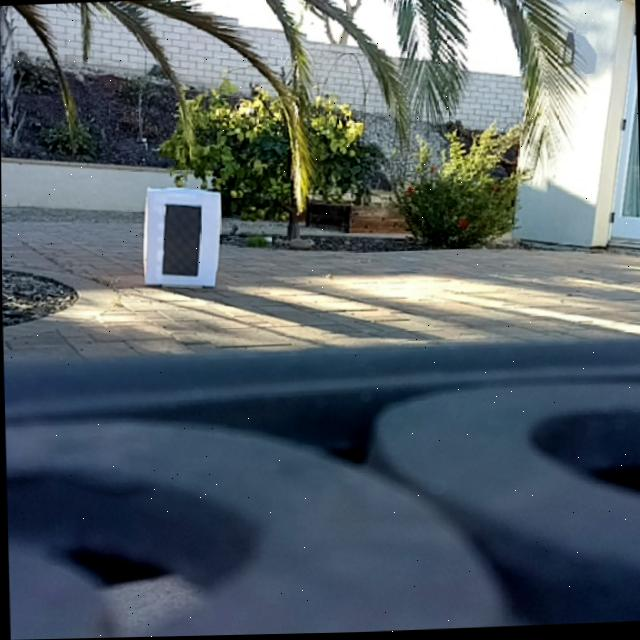led: (161, 203, 201, 279)
